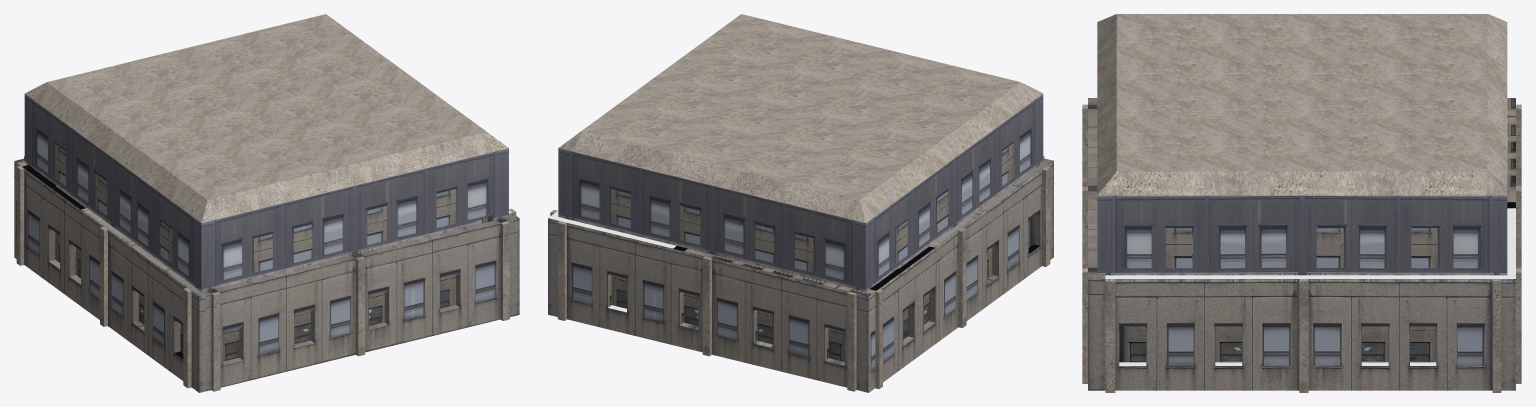
The model's file is BagSS01top_200.fbx.
3 views of the same model, side by side, from view 1: azimuth 30°, elevation 25°; view 2: azimuth 150°, elevation 25°; view 3: azimuth 270°, elevation 25° (orthographic). The views are drawn at different scales.
Visible parts, largest first — view 1: topC200, topB200, topBox200, topA200; view 2: topC200, topB200, topBox200, topA200; view 3: topC200, topB200, topBox200, topA200.
Boxes of the visible parts, x1,y1,x2,y2 form: topC200: (14,94,519,392); topB200: (25,14,508,222); topBox200: (54,143,493,361); topA200: (16,156,516,391); topC200: (548,94,1053,392); topB200: (558,14,1042,222); topBox200: (572,143,1033,361); topA200: (550,156,1050,391); topC200: (1088,98,1515,390); topB200: (1097,14,1507,195); topBox200: (1119,228,1437,362); topA200: (1082,104,1521,392).
Bounding box in the file's own units: 17.98 × 9.37 × 17.99.
